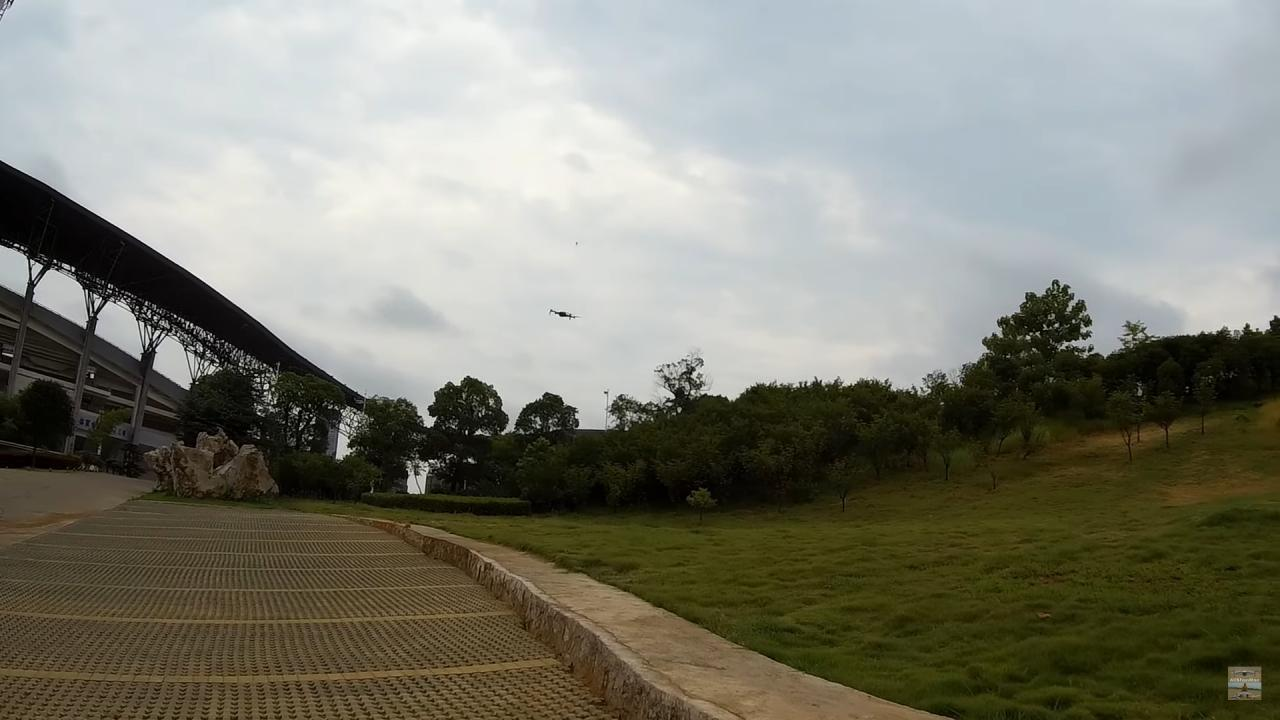Drone: (544, 302, 586, 326)
